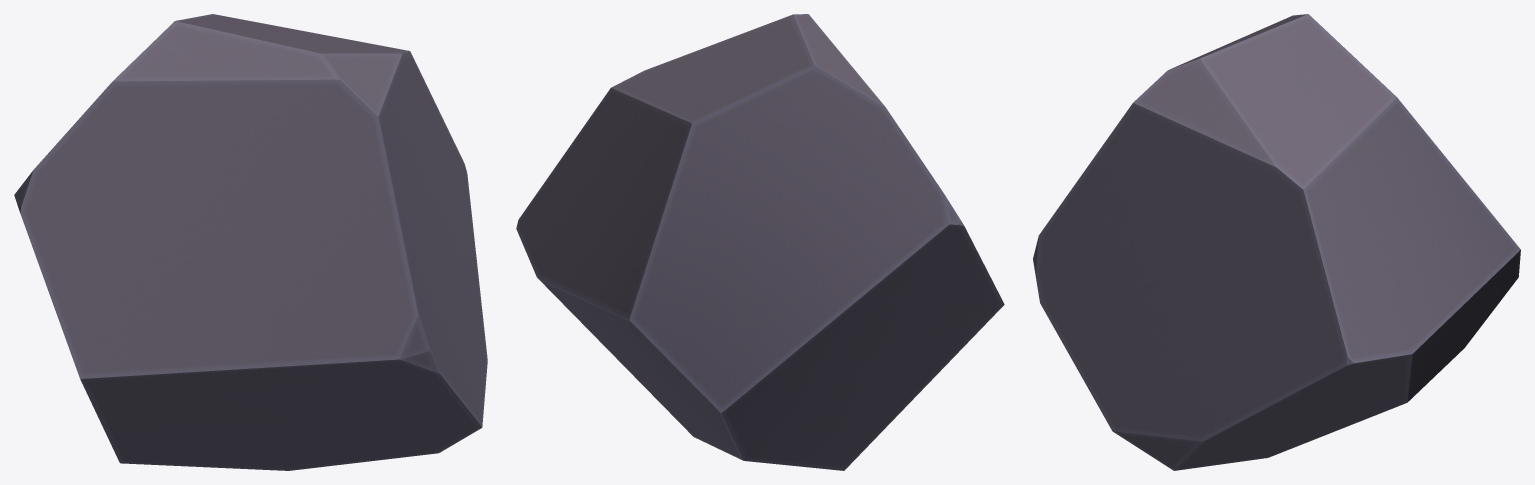
File: Rock.fbx
3 views of the same model, side by side, from view 1: azimuth 30°, elevation 25°; view 2: azimuth 150°, elevation 25°; view 3: azimuth 270°, elevation 25° (orthographic). The views are drawn at different scales.
Parts seen in each view (by area): view 1: Sphere; view 2: Sphere; view 3: Sphere.
Boxes of the visible parts, x1,y1,x2,y2 form: Sphere: (14, 14, 487, 470); Sphere: (516, 14, 1004, 470); Sphere: (1033, 14, 1520, 470).
Size of the model in its own units: 27 by 24.74 by 27.04.
